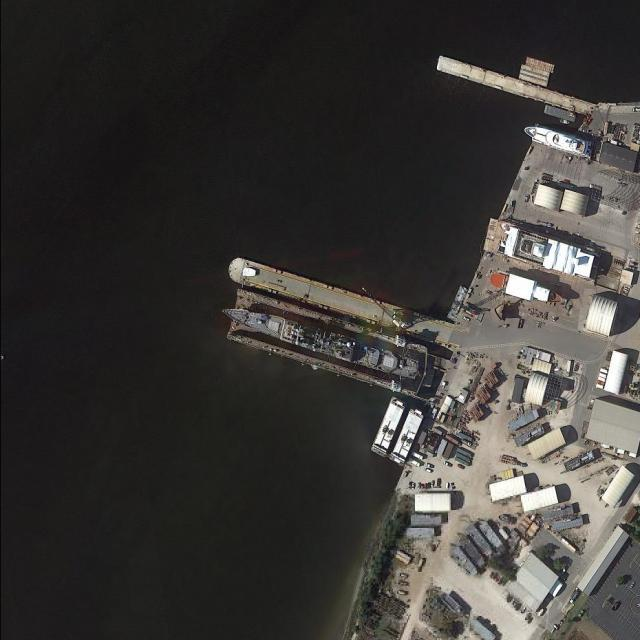Cruiser: (220, 296, 421, 383)
Dock: (224, 253, 460, 350), (431, 54, 595, 116)
Yacht: (521, 123, 587, 155)
